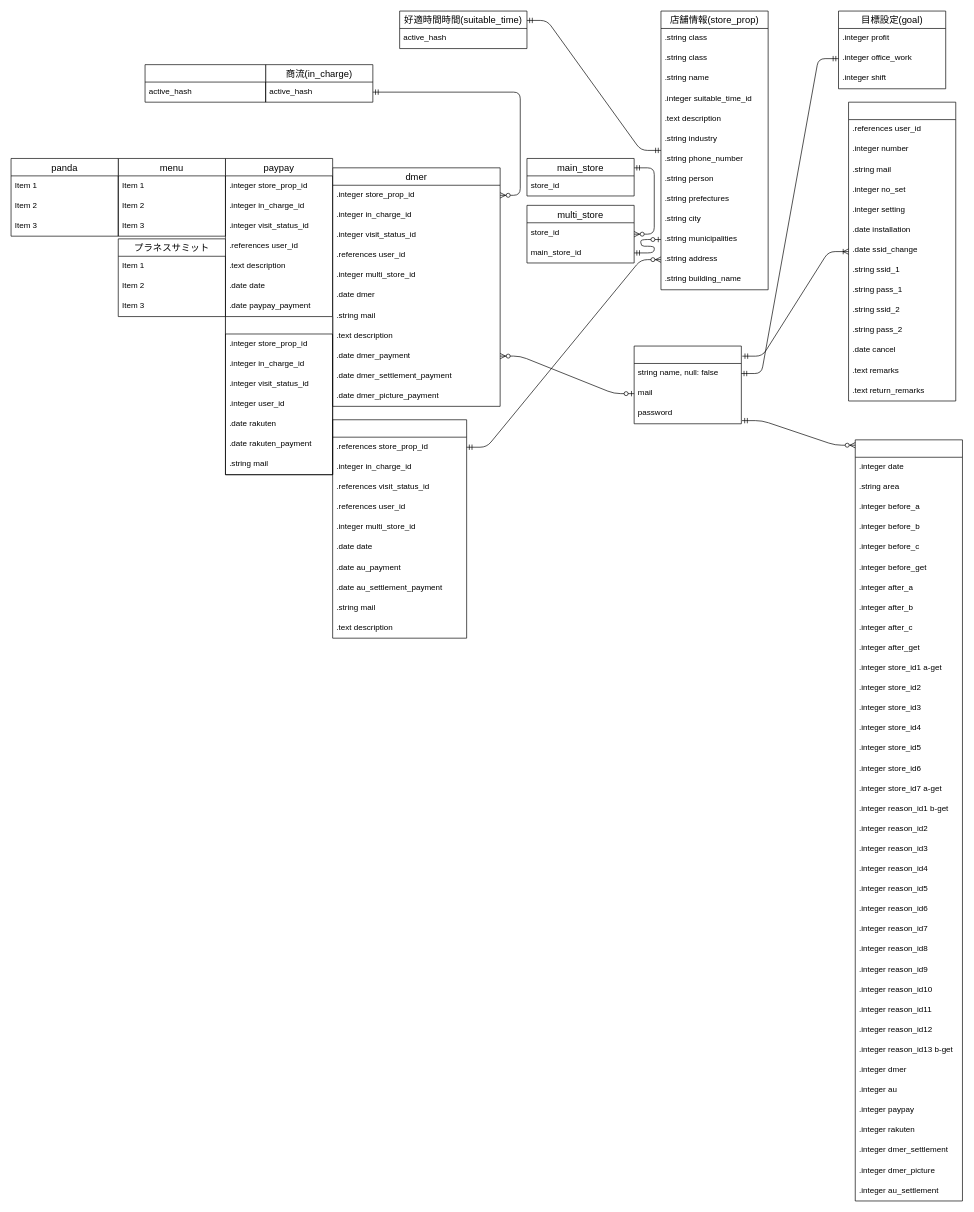
The diagram is 974 pixels wide and 1212 high, and some of its shapes have lost their labels. Each missing label, with the box of its shape:
au: (332, 419, 467, 638)
ユーザー(user): (633, 345, 741, 424)
商材終着(result): (855, 439, 962, 1201)
在庫（stock）: (848, 102, 956, 401)
楽天ペイ(rakuten): (225, 316, 333, 475)
訪問ステータス(visit_status): (144, 64, 266, 102)
